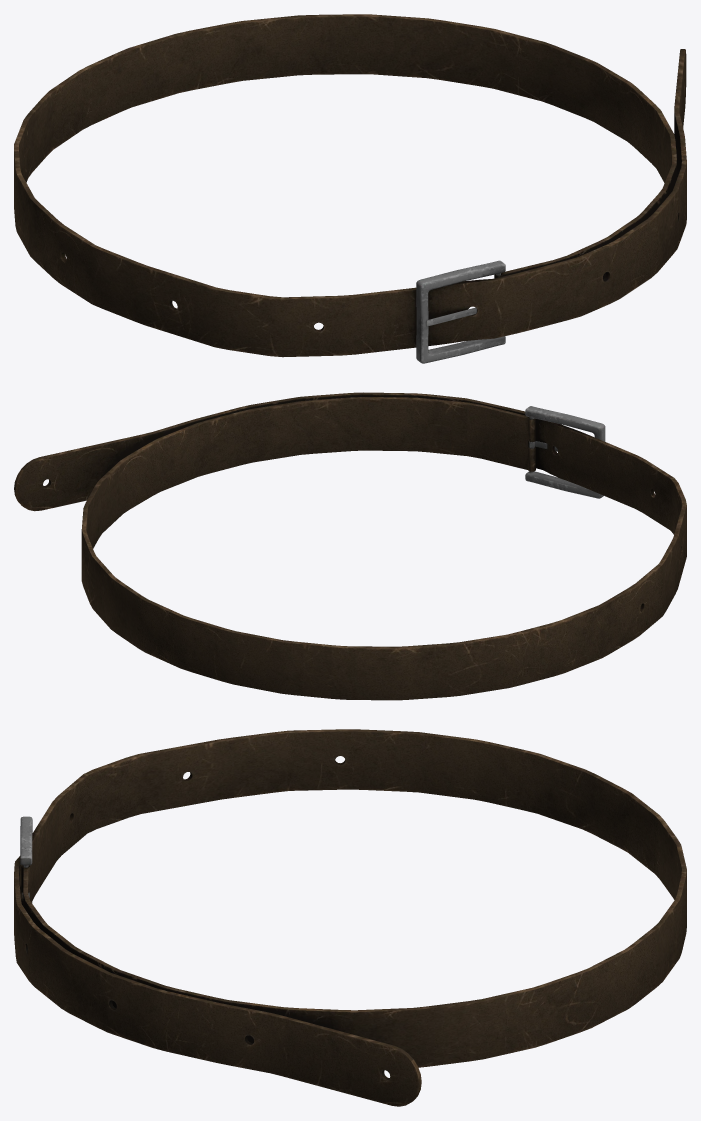
File: Built.glb
3 views of the same model, one above another, from view 1: azimuth 30°, elevation 25°; view 2: azimuth 150°, elevation 25°; view 3: azimuth 270°, elevation 25° (orthographic). The views are drawn at different scales.
Parts seen in each view (by area): view 1: Object_4; view 2: Object_4; view 3: Object_4.
Boxes of the visible parts, bbox=[...] form: Object_4: bbox=[14, 14, 686, 363]; Object_4: bbox=[14, 392, 686, 700]; Object_4: bbox=[14, 729, 686, 1106].
Size of the model in its own units: 2.32 by 0.2744 by 2.02.
Materials: 1 (1 with a texture image).
